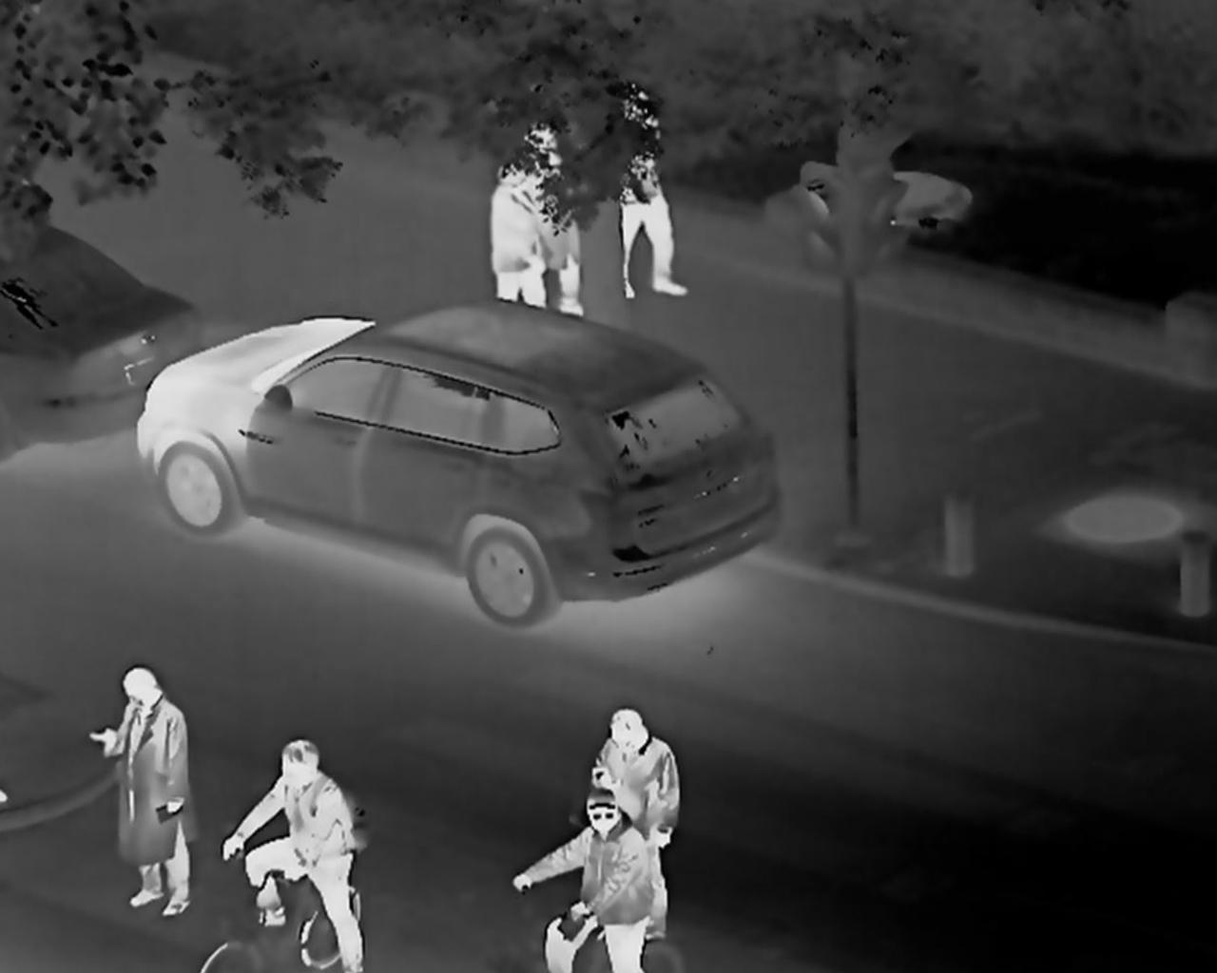person: (220, 740, 372, 968), (88, 670, 205, 919), (515, 792, 657, 969), (590, 714, 682, 935), (612, 87, 692, 301), (527, 125, 581, 325), (490, 154, 554, 312)
